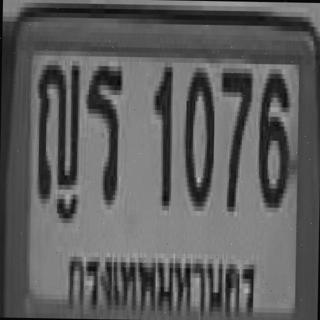A13: (35, 55, 78, 199)
A35: (83, 61, 122, 200)
N00: (181, 62, 213, 202)
N01: (151, 62, 171, 201)
N06: (256, 69, 288, 203)
N07: (219, 63, 251, 207)
P04: (61, 237, 258, 320)
